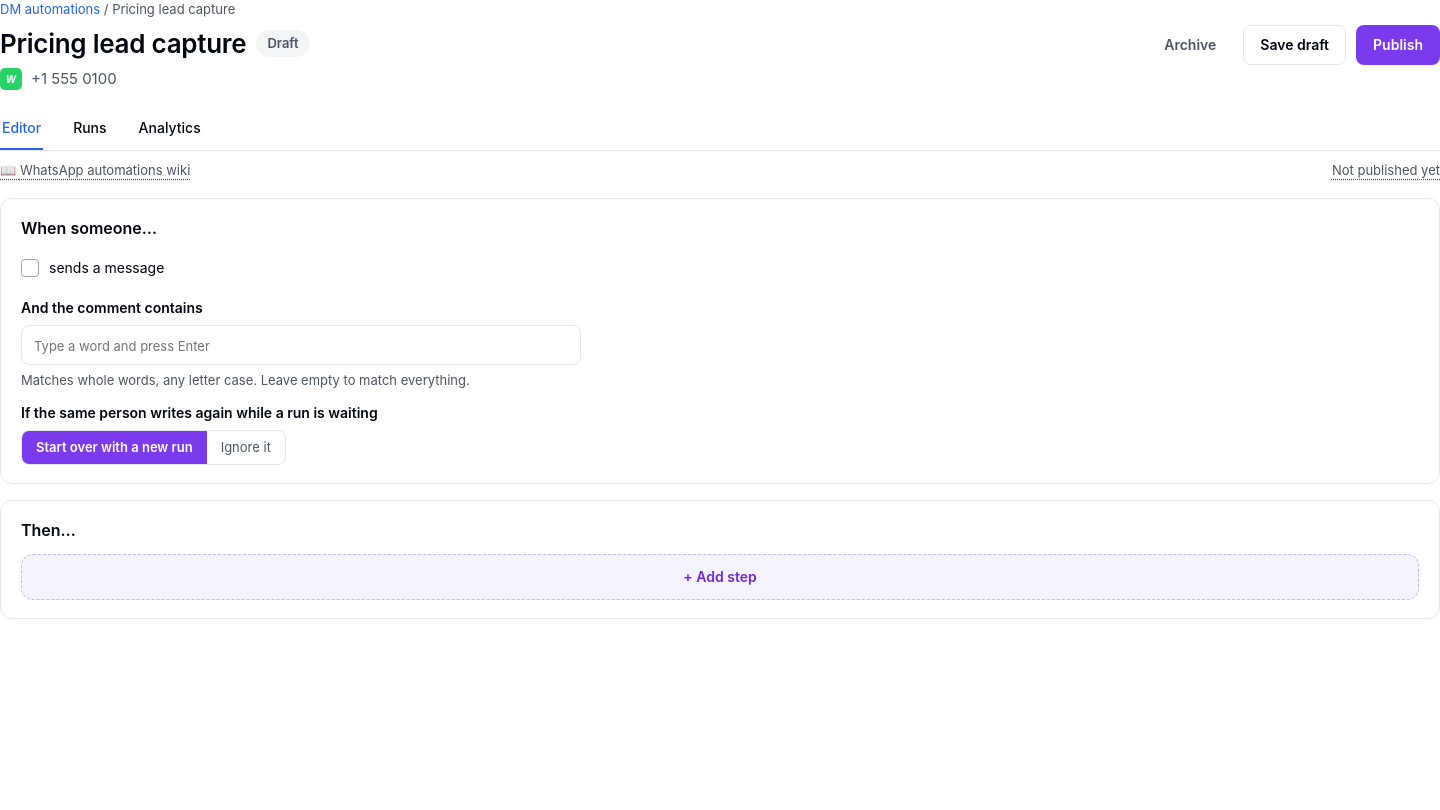
Test case: editor page › words the test hint for messages on a platform without comments
This screenshot has width=1440, height=810.
Click the button "Publish" at (1398, 45), box [1356,25,1439,65]
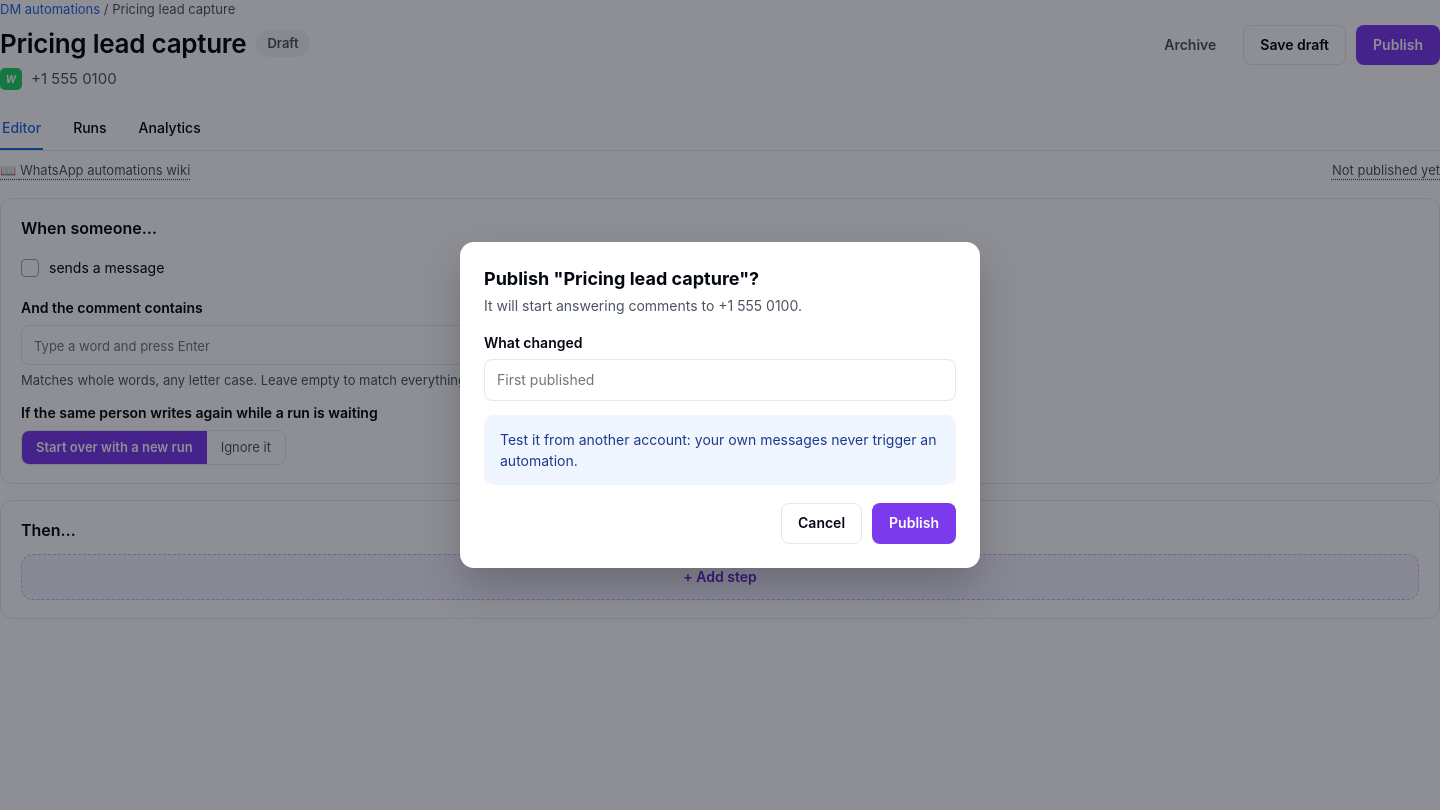
Now the text "Test it from another account: your own messages never trigger an automation." is shown, box [484,415,956,485]
